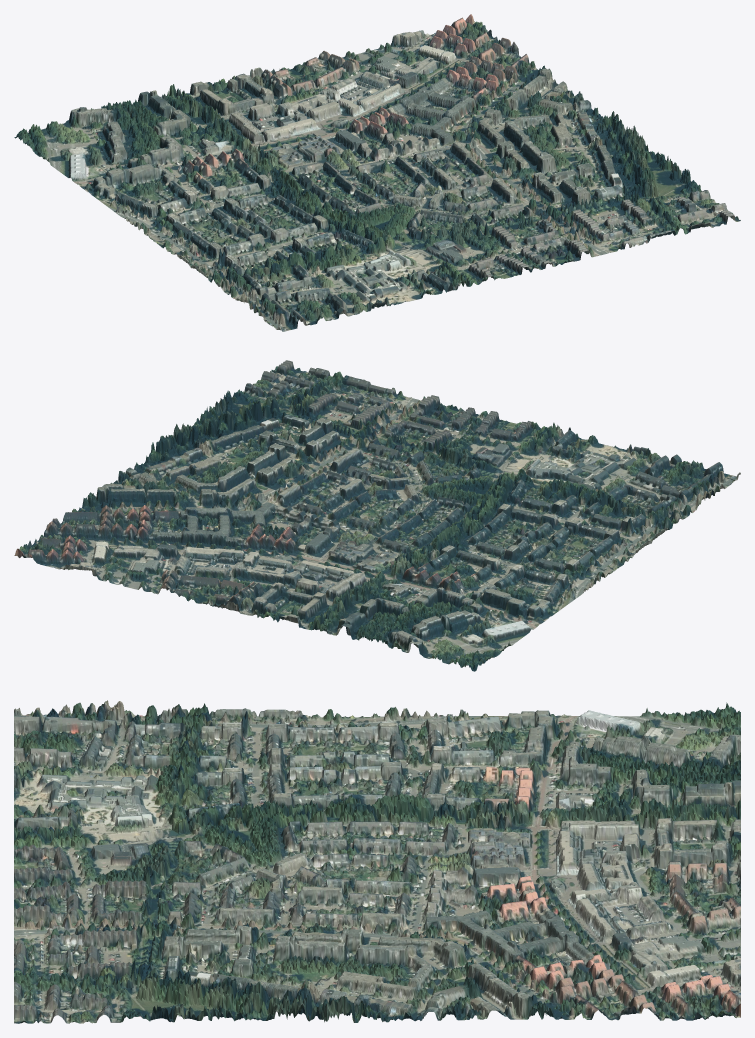
File: utrecht_suburb-truth_mesh.glb
3 views of the same model, one above another, from view 1: azimuth 30°, elevation 25°; view 2: azimuth 150°, elevation 25°; view 3: azimuth 270°, elevation 25° (orthographic). The views are drawn at different scales.
Visible parts, largest first — view 1: terrain; view 2: terrain; view 3: terrain.
Part boxes in pixels (<box>): terrain: <box>14,14,740,331</box>; terrain: <box>14,360,740,671</box>; terrain: <box>14,700,740,1023</box>.
Size of the model in its own units: 600 by 25.91 by 600.
Materials: 1 (1 with a texture image).
